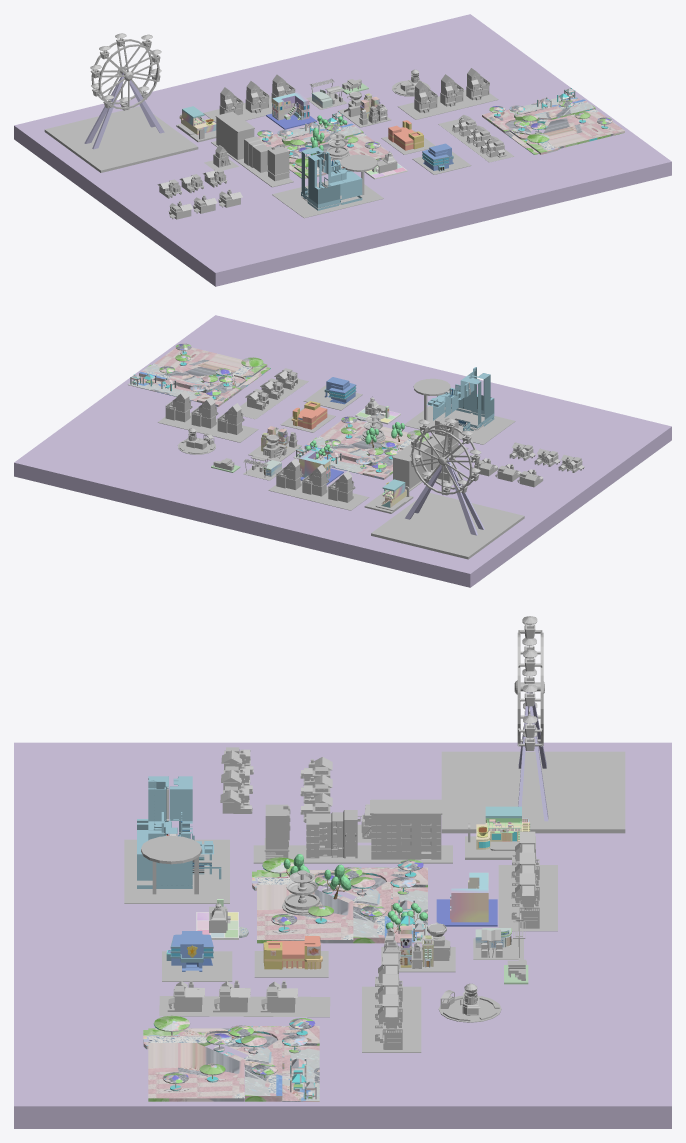
File: S-TOWN.fbx
The picture shows the model from 3 angles, top to bottom: view 1: azimuth 30°, elevation 25°; view 2: azimuth 150°, elevation 25°; view 3: azimuth 270°, elevation 25°; orthographic projection. The views are drawn at different scales.
Visible parts, largest first — view 1: Plane.005, ferris wheel grounds, town square.001, Cube.016, town square, ferriss wheel cubicle.007, Cube.007, Plane.006, fancy traditional house platform 1.001, apartment complex, ferris wheel pillars, fancy traditional house platform 1 (+14 smaller); view 2: Plane.005, ferris wheel grounds, town square.001, town square, ferriss wheel cubicle.007, Cube.007, Plane.006, Cube.016, fancy traditional house platform 1.001, ferris wheel pillars, fancy traditional house platform 1, traditional fancy house 2.001 (+17 smaller); view 3: Plane.005, ferris wheel grounds, town square.001, town square, Cube.016, Plane.006, Cube.007, fancy traditional house platform 1.001, ferriss wheel cubicle.007, apartment complex, Plane.003, Plane.010 (+15 smaller).
Part boxes in pixels (x1,y1,x2,y2): Plane.005: [14, 14, 671, 286]; ferris wheel grounds: [44, 106, 198, 172]; town square.001: [482, 88, 624, 154]; Cube.016: [211, 111, 293, 187]; town square: [257, 112, 392, 178]; ferriss wheel cubicle.007: [90, 33, 161, 110]; Cube.007: [301, 147, 362, 210]; Plane.006: [272, 154, 383, 218]; fancy traditional house platform 1.001: [438, 114, 514, 162]; apartment complex: [266, 92, 316, 129]; ferris wheel pillars: [84, 72, 164, 149]; fancy traditional house platform 1: [168, 189, 242, 219]; Plane.005: [14, 315, 671, 587]; ferris wheel grounds: [371, 493, 524, 559]; town square.001: [127, 343, 270, 406]; town square: [293, 416, 429, 479]; ferriss wheel cubicle.007: [409, 418, 481, 495]; Cube.007: [427, 367, 494, 430]; Plane.006: [404, 378, 515, 444]; Cube.016: [392, 417, 468, 491]; fancy traditional house platform 1.001: [240, 368, 308, 419]; ferris wheel pillars: [405, 457, 484, 535]; fancy traditional house platform 1: [509, 442, 584, 472]; traditional fancy house 2.001: [474, 458, 543, 487]; Plane.005: [14, 742, 671, 1128]; ferris wheel grounds: [441, 751, 625, 833]; town square.001: [143, 1015, 319, 1101]; town square: [252, 857, 427, 943]; Cube.016: [253, 799, 452, 863]; Plane.006: [124, 835, 229, 903]; Cube.007: [137, 776, 221, 888]; fancy traditional house platform 1.001: [159, 980, 330, 1017]; ferriss wheel cubicle.007: [514, 616, 544, 750]; apartment complex: [436, 872, 497, 926]; Plane.003: [362, 986, 421, 1052]; Plane.010: [498, 865, 557, 931].
Bounding box in the file's own units: 422114 × 107611 × 322824.
